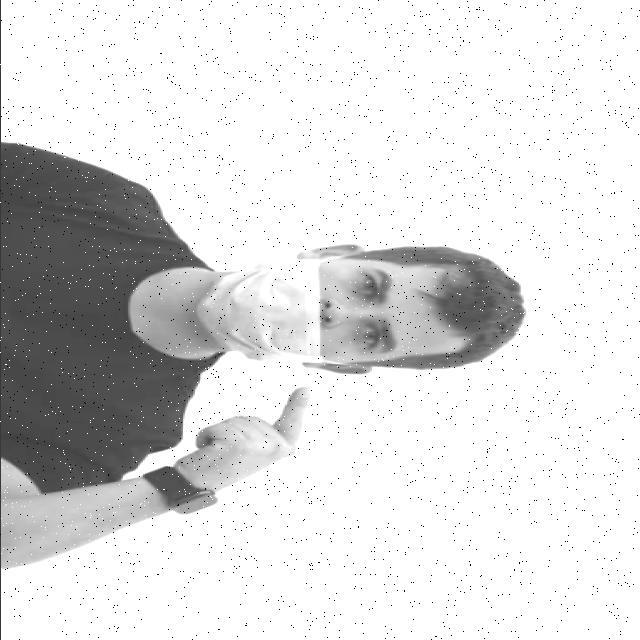face_half_mask: (215, 244, 470, 372)
